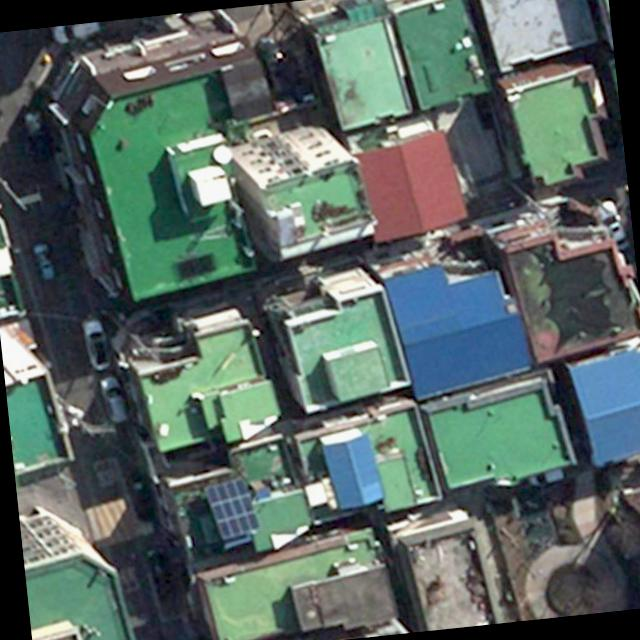solar: (200, 472, 266, 544)
